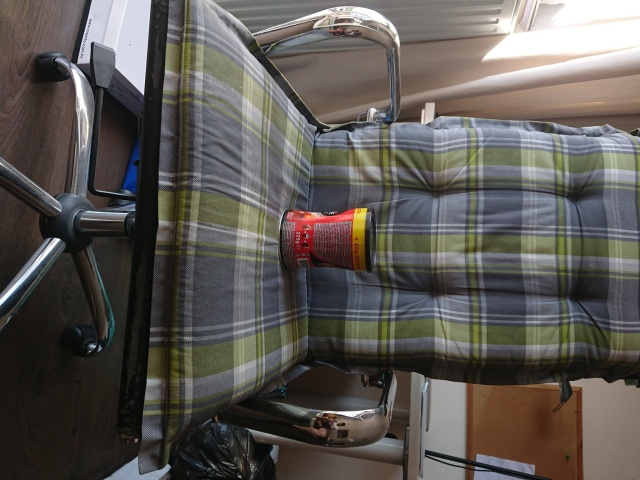Nescafe Classic 225g: (275, 205, 379, 275)
